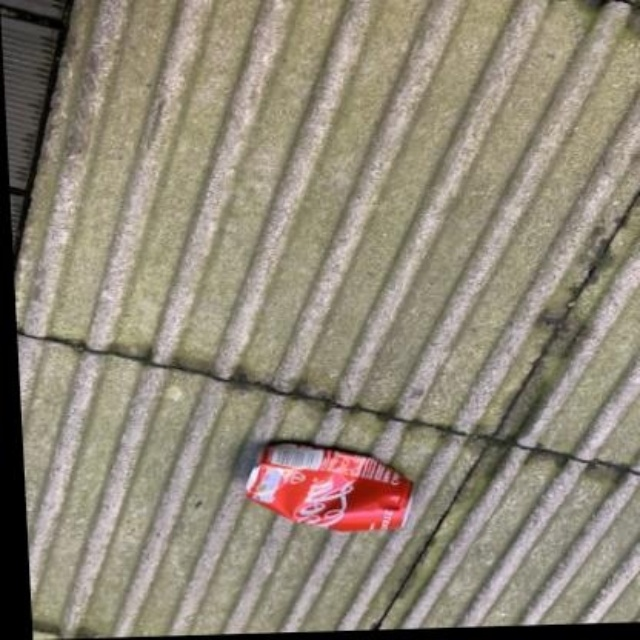trash: (246, 442, 411, 531)
